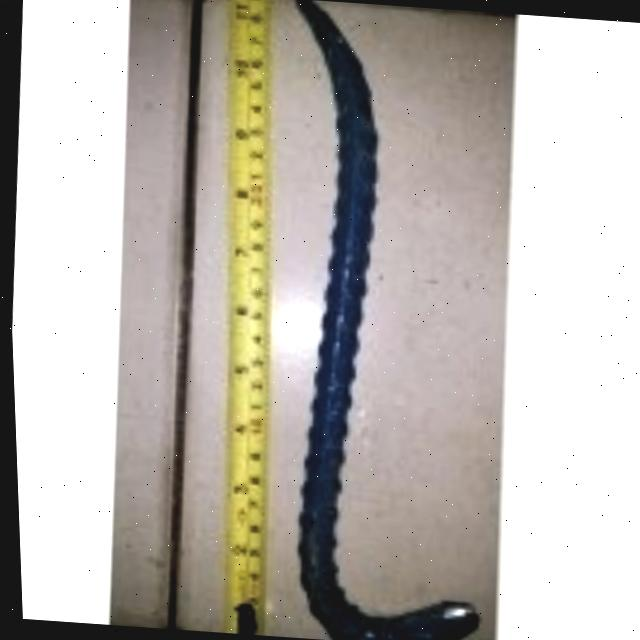crow bar: (287, 0, 475, 640)
